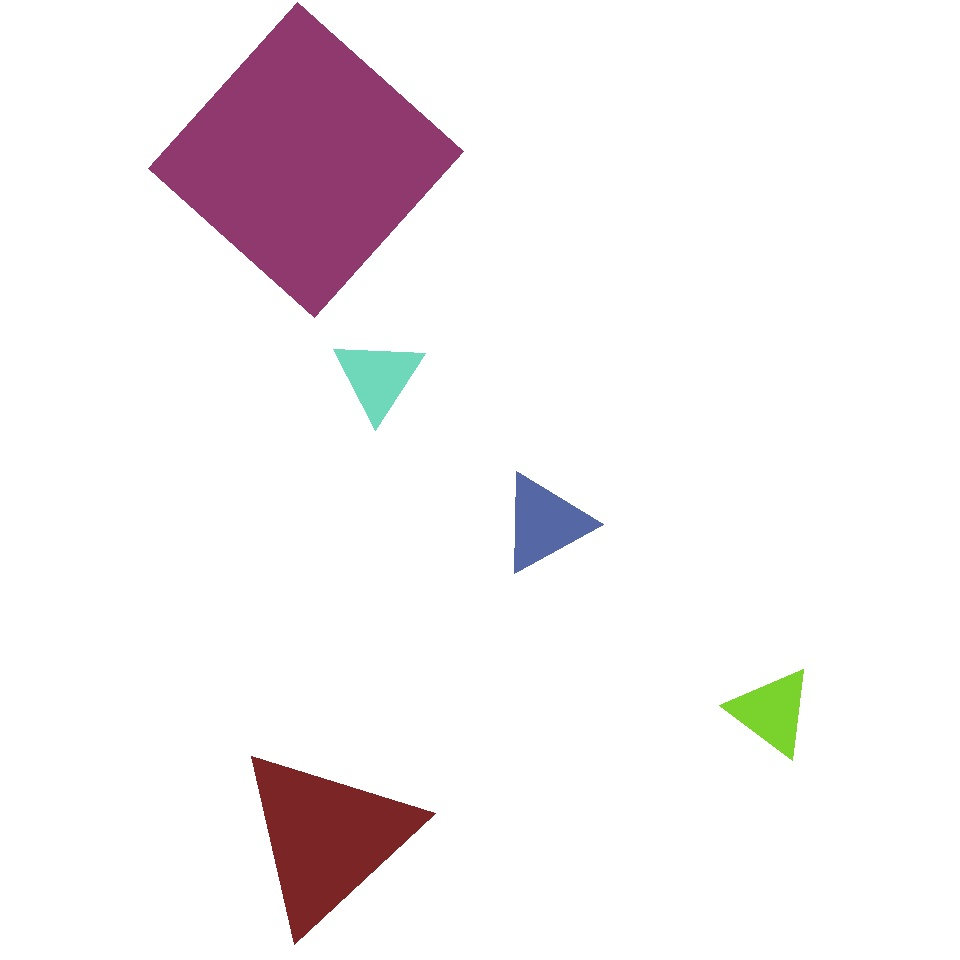circle: (155, 448, 332, 648), (235, 744, 419, 932), (465, 521, 565, 625), (69, 376, 175, 470), (500, 472, 590, 574), (730, 666, 814, 758), (332, 338, 424, 418)
square: (148, 2, 464, 317)
triangle: (497, 670, 722, 894)
